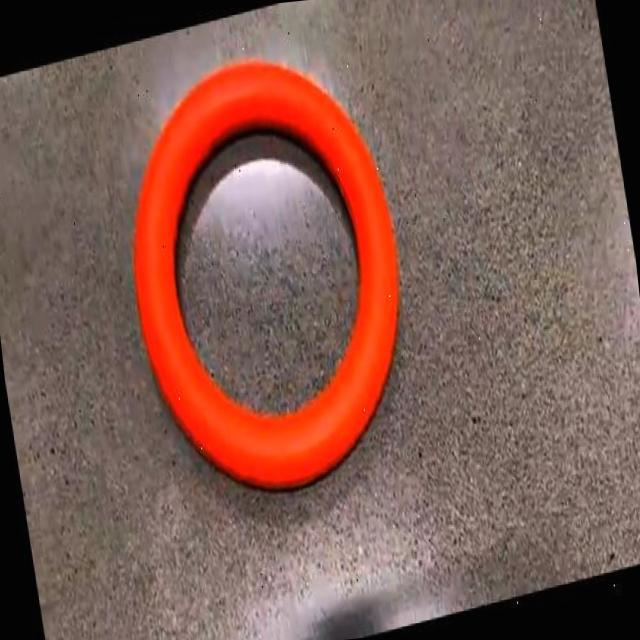note: (134, 63, 398, 488)
